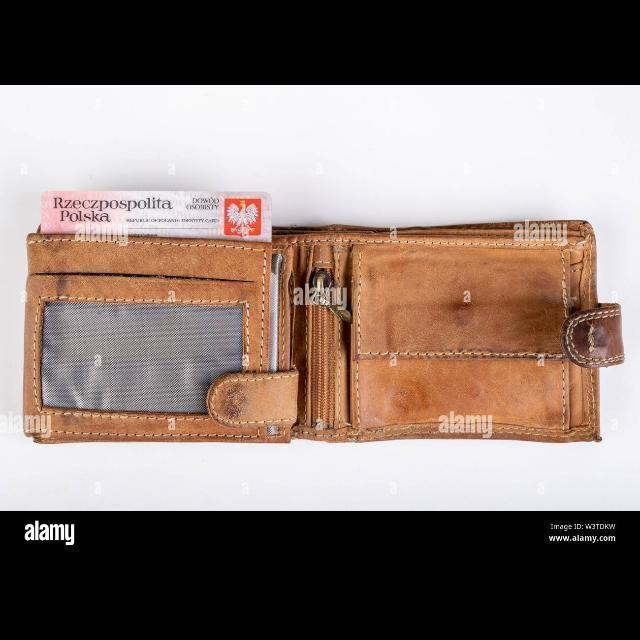Wallet: (20, 170, 640, 456)
